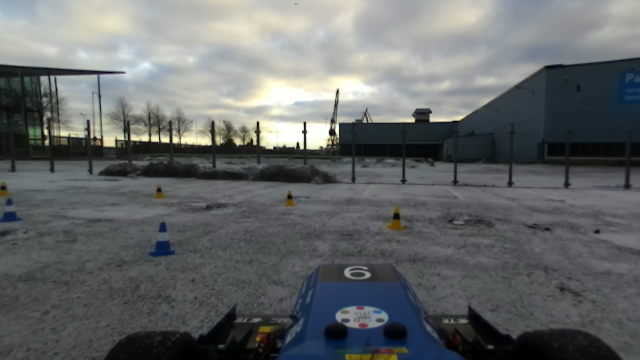blue: (147, 220, 179, 260), (2, 198, 22, 223)
yellow: (386, 206, 405, 233)
